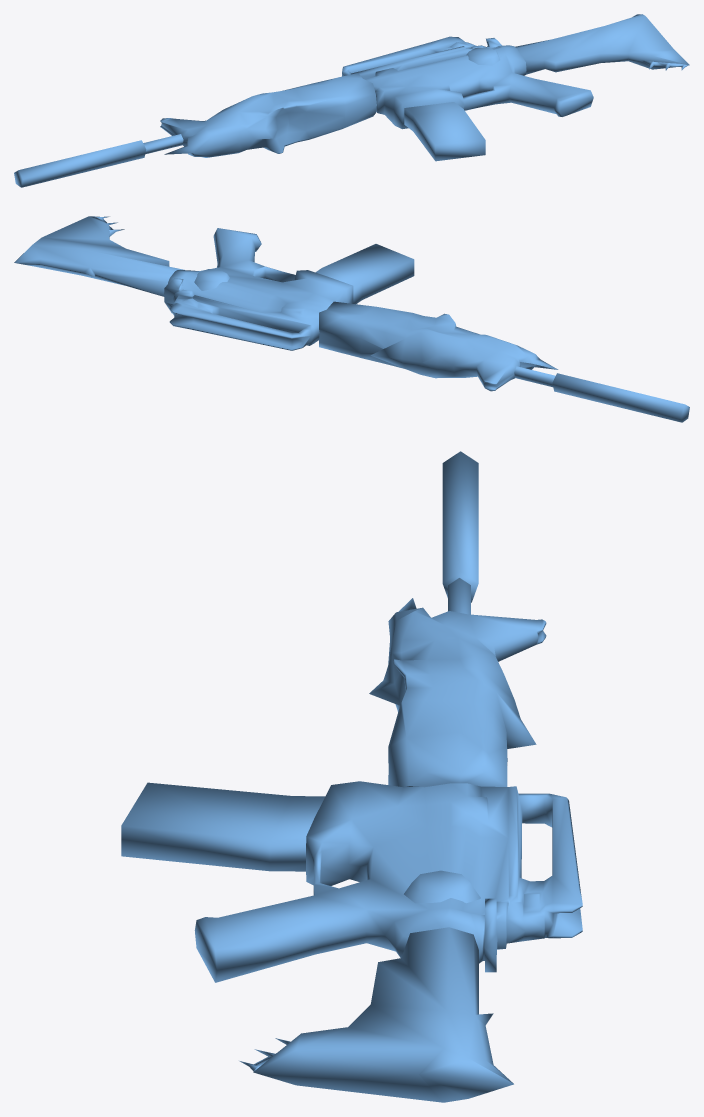
The model's file is QV-M4A1_S_Transformers_raw.obj.
The picture shows the model from 3 angles, top to bottom: view 1: azimuth 30°, elevation 25°; view 2: azimuth 150°, elevation 25°; view 3: azimuth 270°, elevation 25°; orthographic projection. The views are drawn at different scales.
Parts seen in each view (by area): view 1: QV-M4A1_S_Transformers_raw; view 2: QV-M4A1_S_Transformers_raw; view 3: QV-M4A1_S_Transformers_raw.
Part boxes in pixels (x1,y1,x2,y2): QV-M4A1_S_Transformers_raw: (14, 14, 689, 187); QV-M4A1_S_Transformers_raw: (14, 216, 689, 422); QV-M4A1_S_Transformers_raw: (121, 451, 582, 1102).
Bounding box in the file's own units: 87.14 × 6.07 × 27.57.
